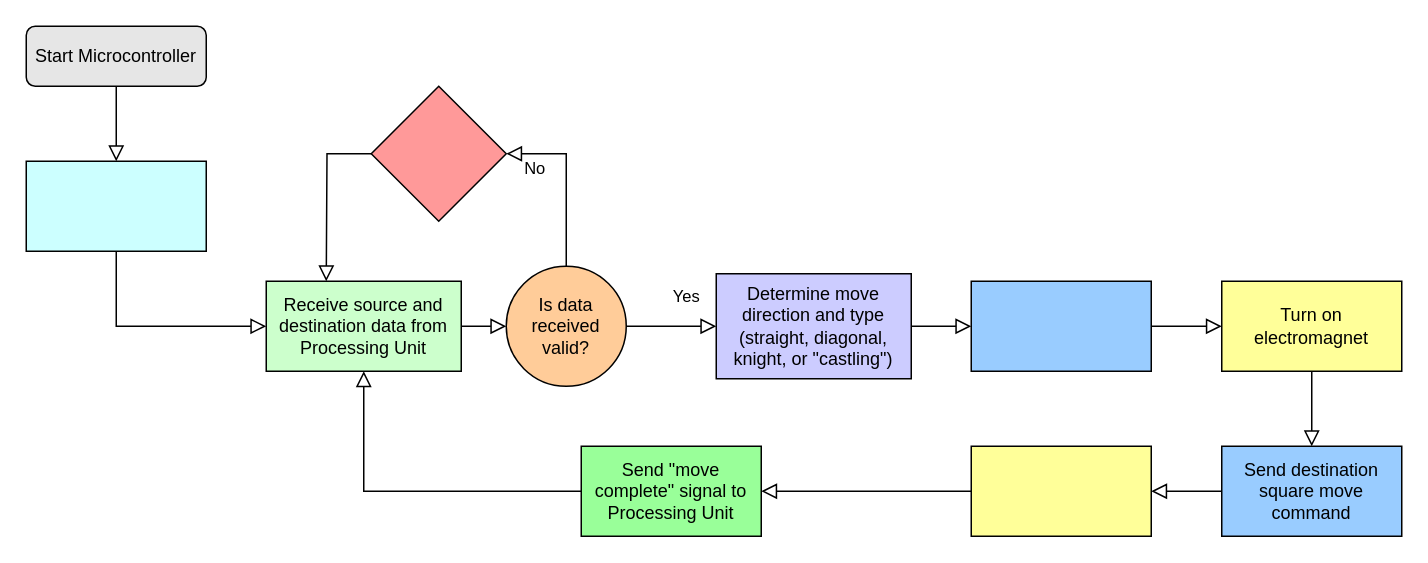
The diagram is 1428 pixels wide and 563 high, and some of its shapes have lost their labels. Each missing label, with the centre of its shape:
Initialize UART, stepper drivers, and MOSFET control: (x=115, y=205)
Request retransmission of data: (x=438, y=153)
Send source square move command: (x=1060, y=325)
Turn off electromagnet: (x=1060, y=490)
